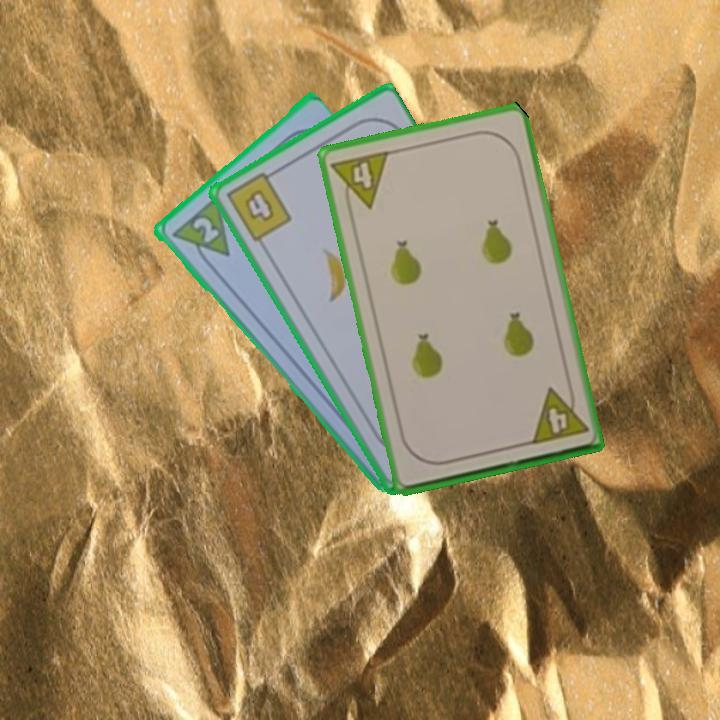2p: (167, 193, 233, 273)
4b: (222, 166, 295, 245)
4p: (327, 147, 392, 216), (526, 381, 591, 448)
